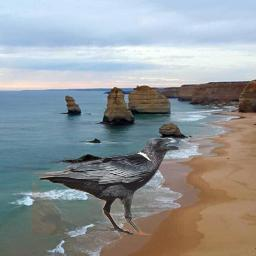Crow: (32, 135, 181, 235)
